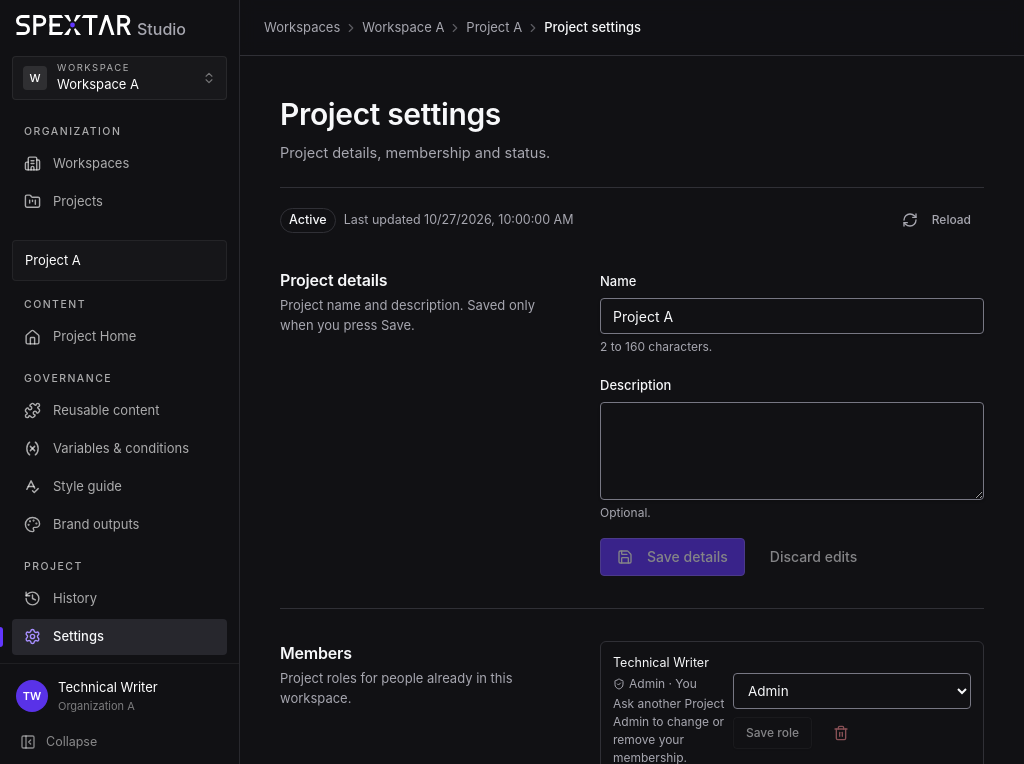
Test: Project Settings route › keeps typed details on failure and permits explicit retry without duplicate automatic writes
The width and height of the screenshot is (1024, 764).
Replace the text in the field with test id "input-name" with "Retry name" at [792, 316], box [600,298,984,334]
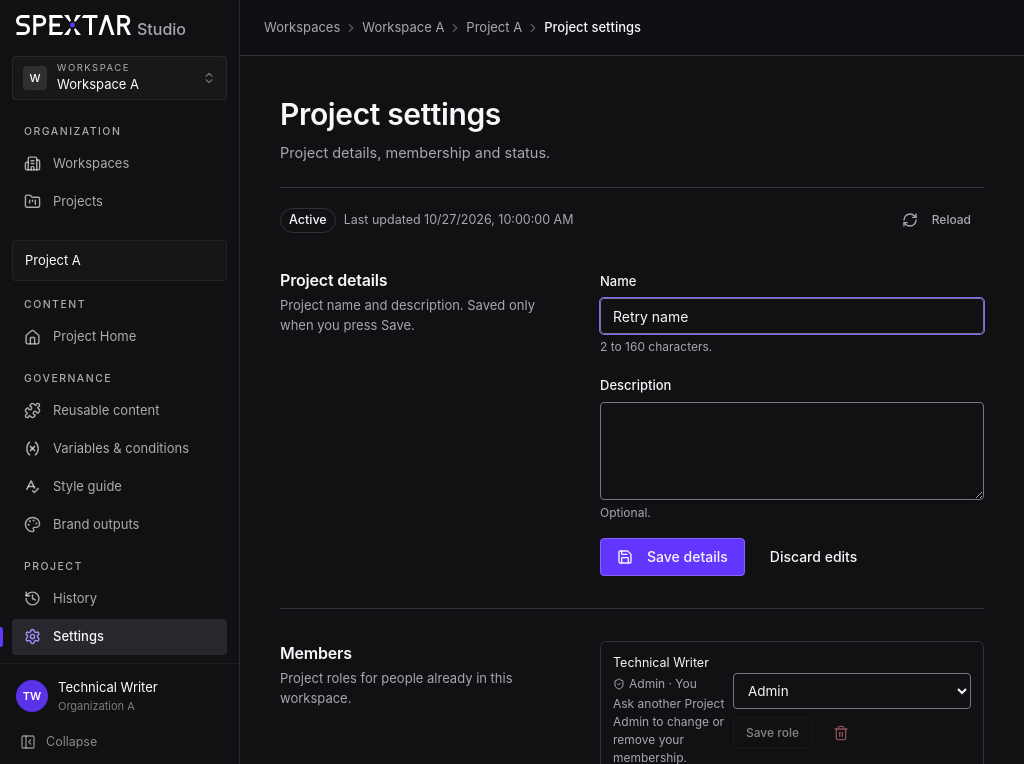
Click the button with test id "button-save-details" at [672, 557], box [600,538,745,576]
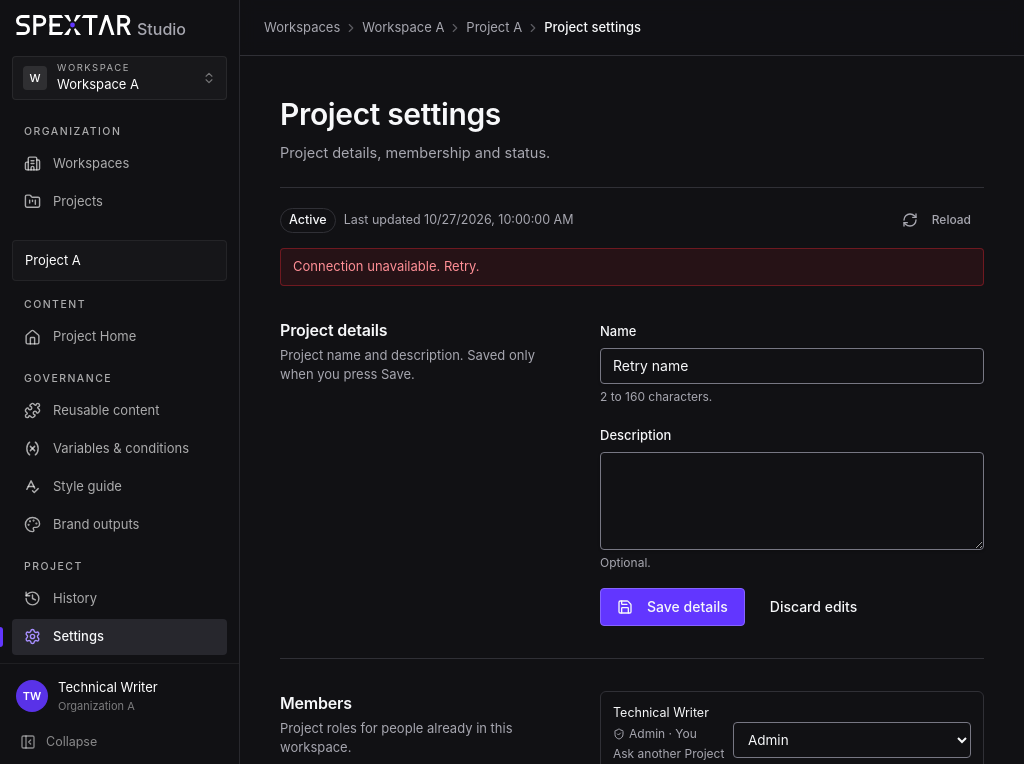
Result: the message with test id "alert-error" shows "Connection unavailable" at [293,258,480,274]
Click the button with test id "button-save-details" at [672, 607], box [600,588,745,626]
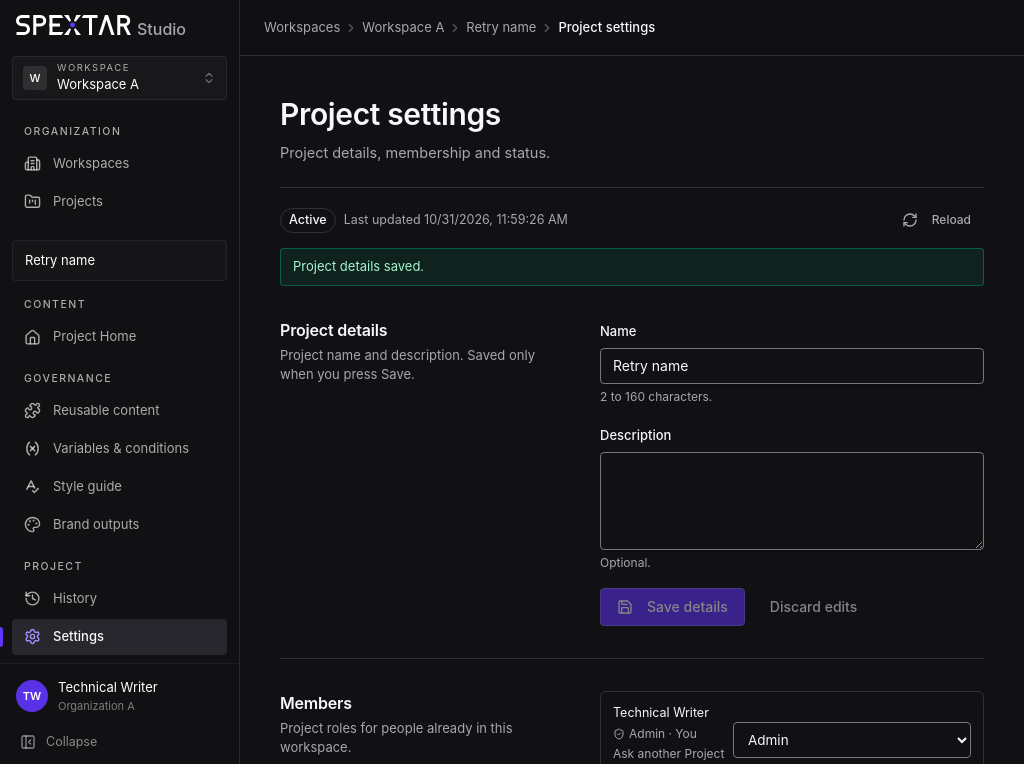
Result: the text "Retry name" is shown at [25,252,95,268]
